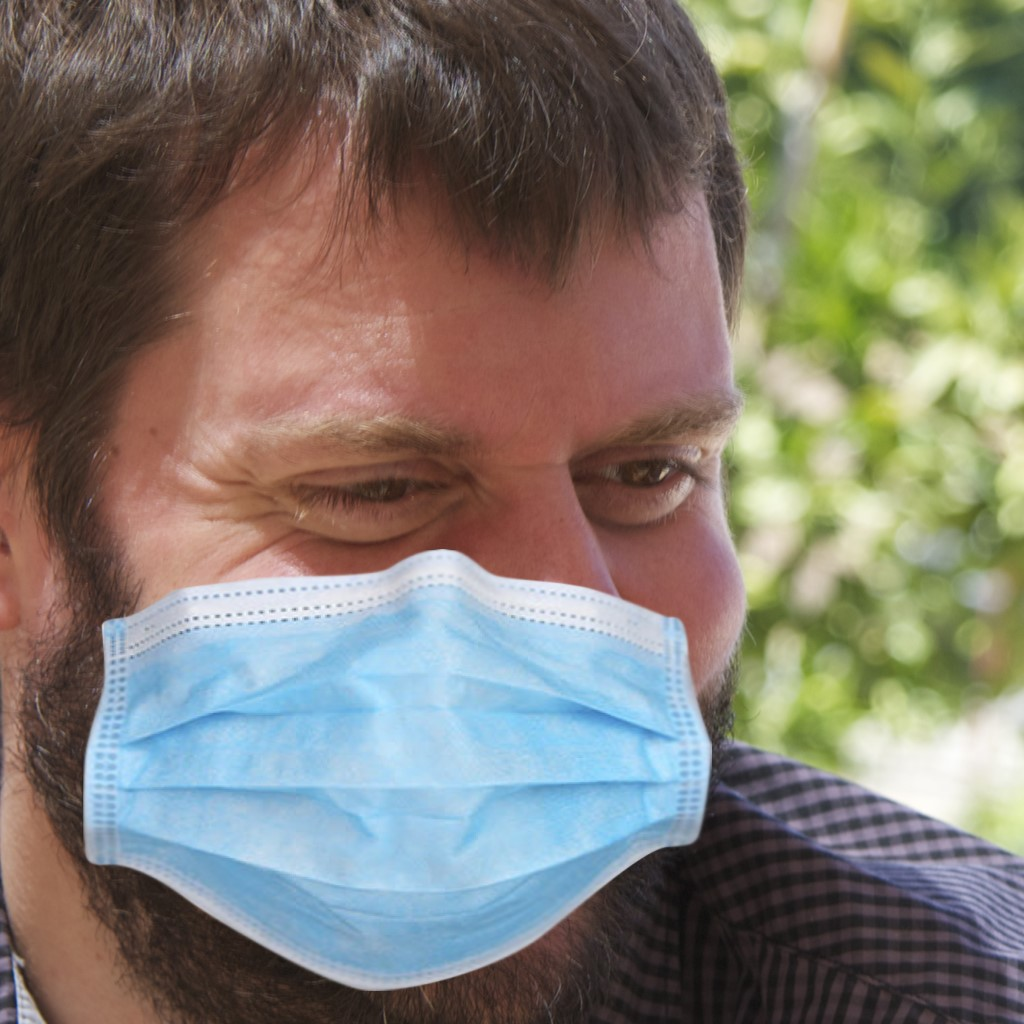con_mascara: (27, 21, 756, 970)
